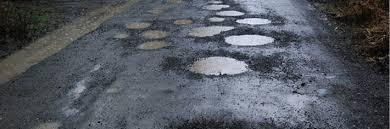pothole: (183, 55, 266, 85), (65, 60, 110, 107), (220, 31, 300, 54), (187, 23, 230, 42), (194, 1, 252, 15), (135, 41, 175, 58), (233, 16, 285, 29), (33, 115, 74, 129), (122, 15, 158, 30), (166, 13, 199, 27), (200, 14, 230, 26), (141, 28, 175, 38), (110, 30, 132, 44)
